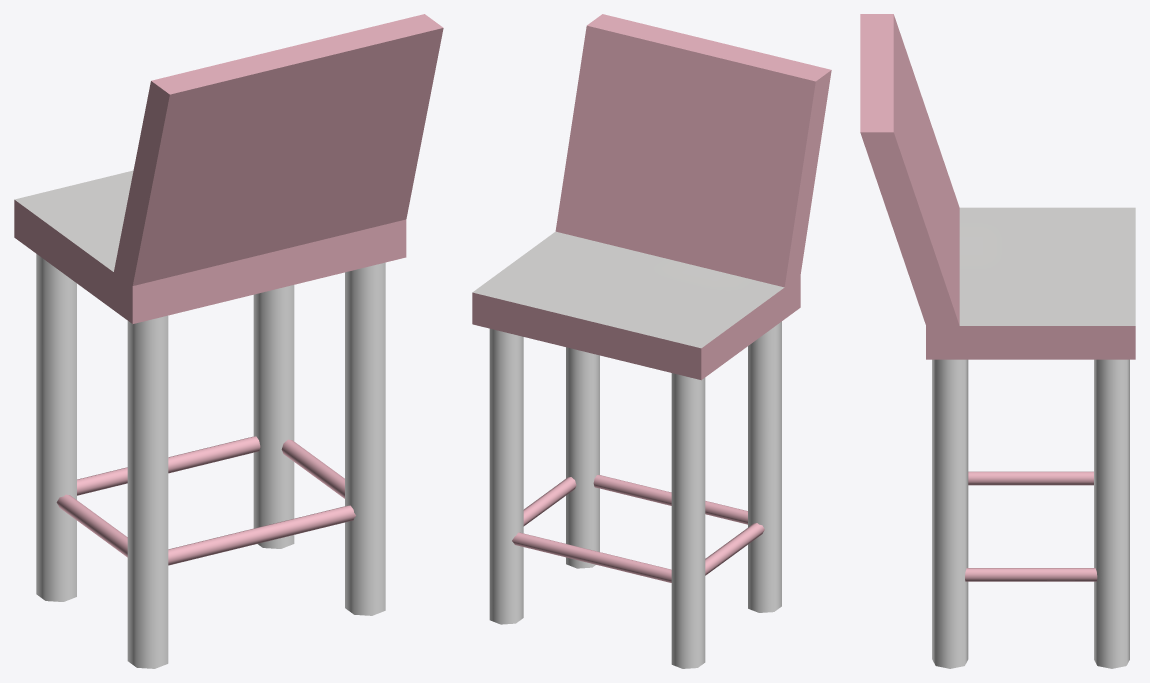
The model's file is Kitchen_Bar_Chair1_Pink.fbx.
3 views of the same model, side by side, from view 1: azimuth 30°, elevation 25°; view 2: azimuth 150°, elevation 25°; view 3: azimuth 270°, elevation 25° (orthographic). The views are drawn at different scales.
Visible parts, largest first — view 1: Kitchen_Bar_Chair1_Pink; view 2: Kitchen_Bar_Chair1_Pink; view 3: Kitchen_Bar_Chair1_Pink.
Boxes of the visible parts, x1=… form: Kitchen_Bar_Chair1_Pink: x1=14, y1=14, x2=443, y2=668; Kitchen_Bar_Chair1_Pink: x1=472, y1=14, x2=831, y2=668; Kitchen_Bar_Chair1_Pink: x1=860, y1=14, x2=1135, y2=668.
Bounding box in the file's own units: 41.57 × 88.58 × 40.94.
